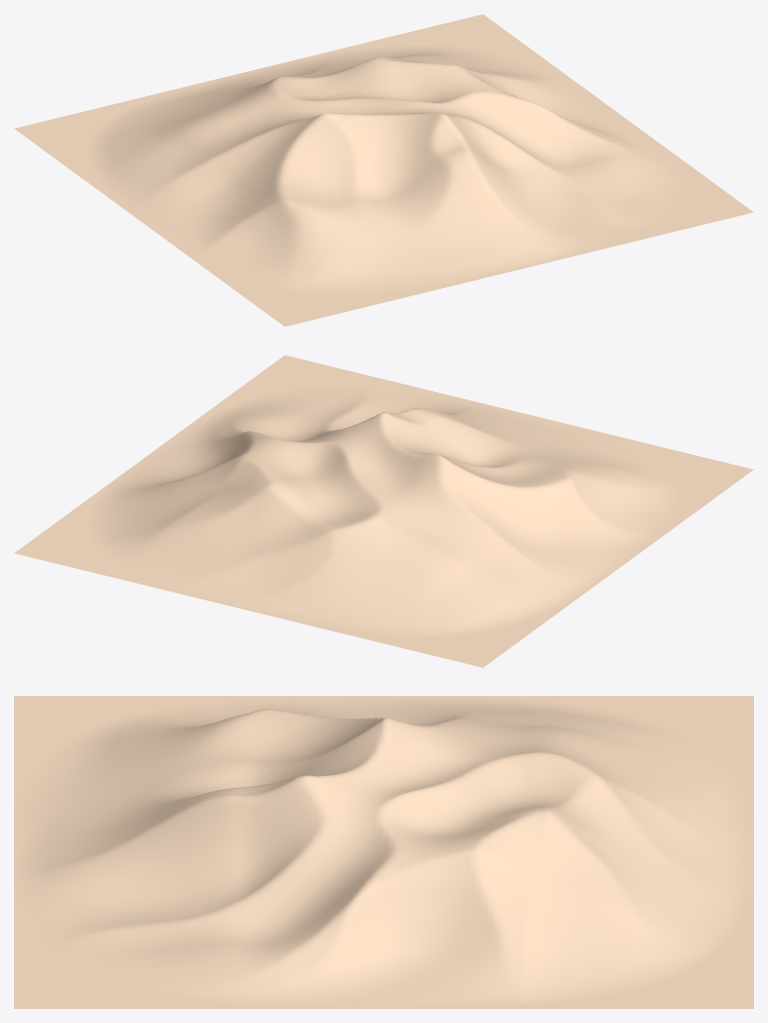
The model's file is Dunes.fbx.
3 views of the same model, one above another, from view 1: azimuth 30°, elevation 25°; view 2: azimuth 150°, elevation 25°; view 3: azimuth 270°, elevation 25° (orthographic). The views are drawn at different scales.
Parts seen in each view (by area): view 1: Landscape.001; view 2: Landscape.001; view 3: Landscape.001.
Part boxes in pixels (x1,y1,x2,y2): Landscape.001: [14, 14, 753, 326]; Landscape.001: [14, 355, 753, 667]; Landscape.001: [14, 696, 753, 1008].
Bounding box in the file's own units: 200 × 28.74 × 200.
